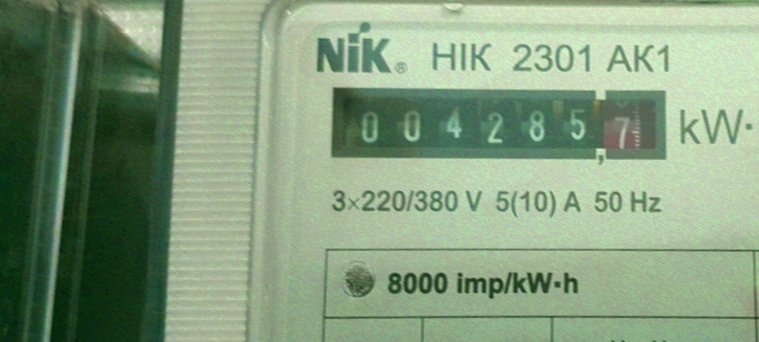0: (401, 106, 423, 143), (358, 107, 380, 143)
2: (485, 108, 505, 145)
4: (445, 103, 463, 139)
5: (566, 104, 588, 141)
7: (611, 113, 631, 150)
8: (525, 106, 547, 144)
screen: (315, 70, 683, 179)
